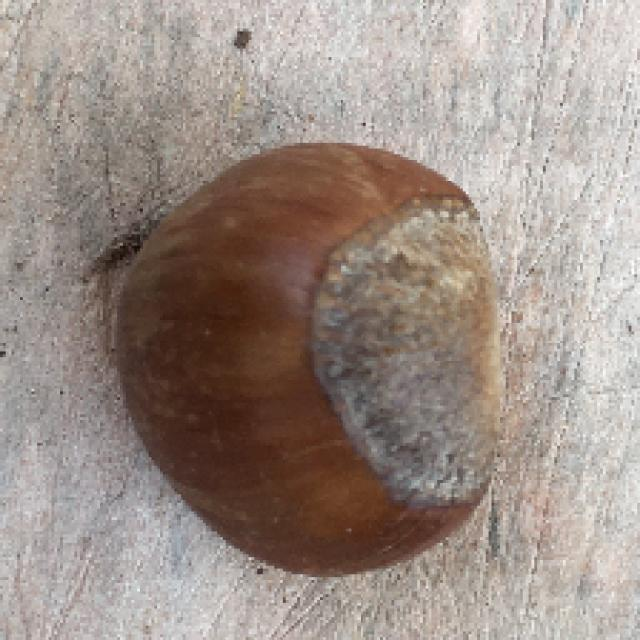qualityHazelnut: (119, 141, 512, 584)
